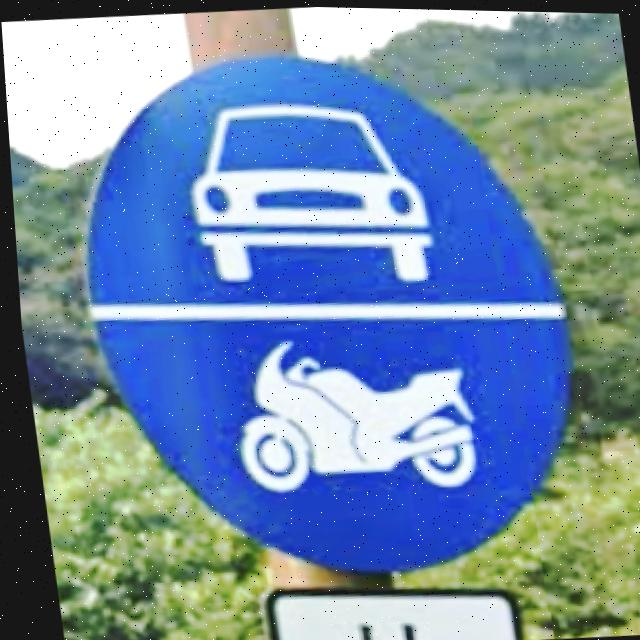carmotorcycle: (85, 54, 562, 570)
